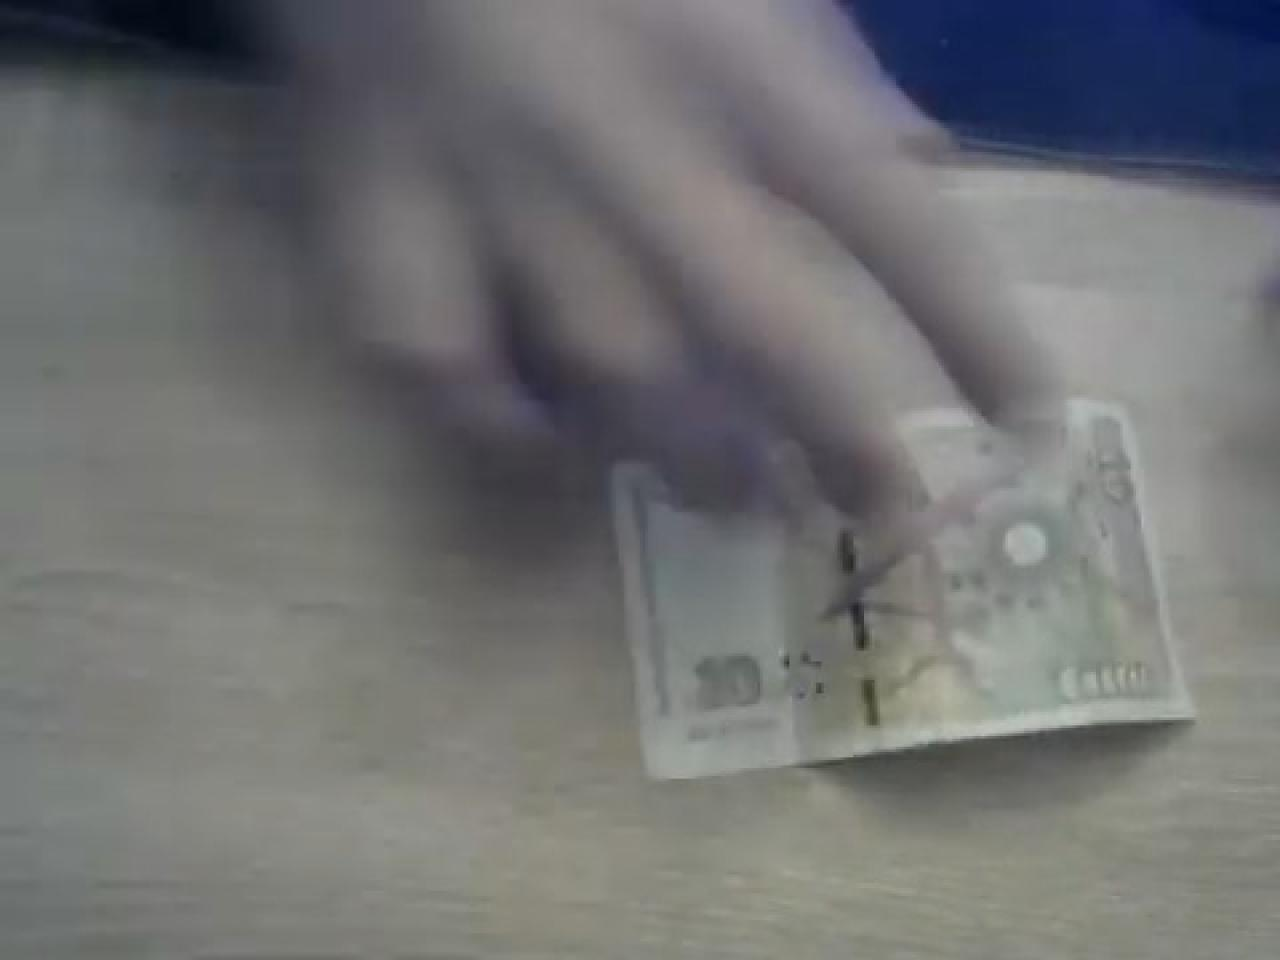10leva: (608, 397, 1197, 784)
